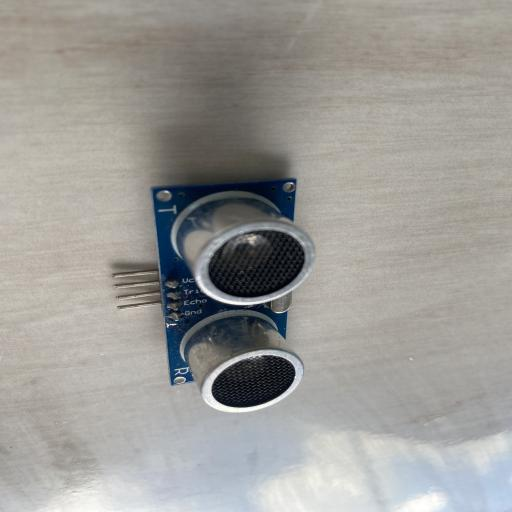Ultrasonic Sensor: (111, 178, 316, 412)
